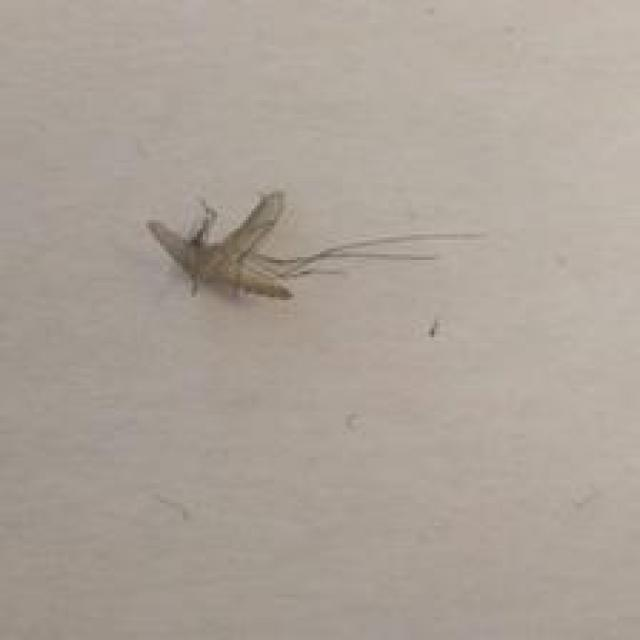Culex: (146, 188, 483, 303)
